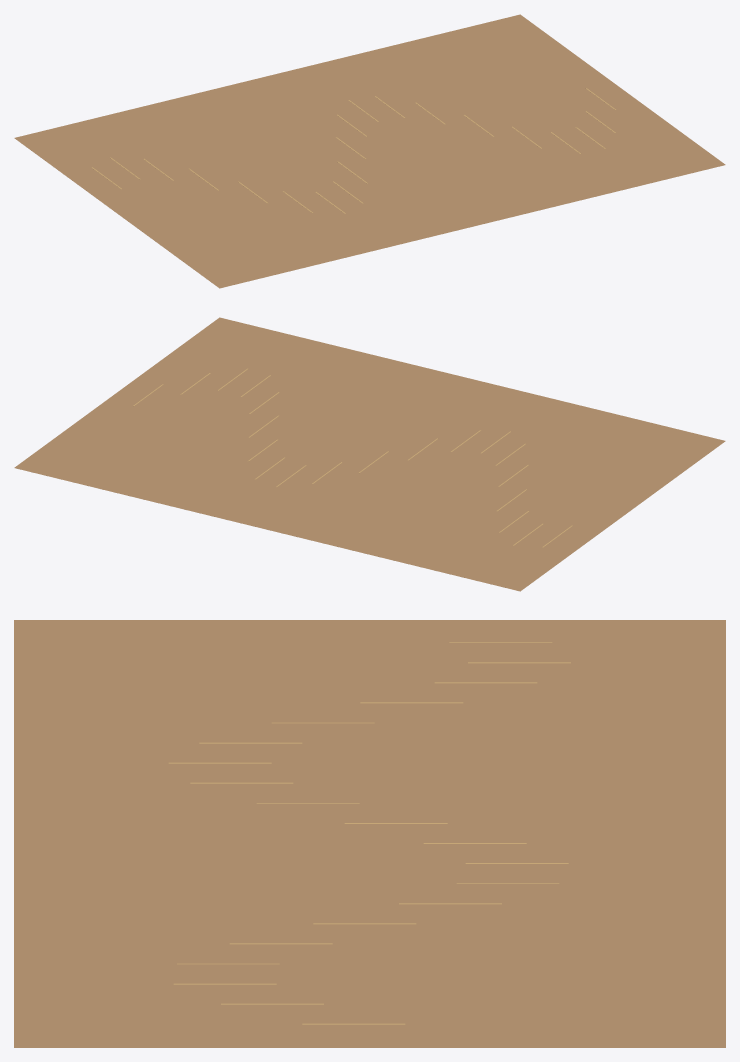
The model's file is 244_L118_L7_LayerReference.glb.
The picture shows the model from 3 angles, top to bottom: view 1: azimuth 30°, elevation 25°; view 2: azimuth 150°, elevation 25°; view 3: azimuth 270°, elevation 25°; orthographic projection. The views are drawn at different scales.
Parts seen in each view (by area): view 1: 0000__PSMAT__copper_dark; view 2: 0000__PSMAT__copper_dark; view 3: 0000__PSMAT__copper_dark.
Part boxes in pixels (bbox=[...]): 0000__PSMAT__copper_dark: bbox=[14, 14, 725, 288]; 0000__PSMAT__copper_dark: bbox=[14, 317, 725, 591]; 0000__PSMAT__copper_dark: bbox=[14, 620, 725, 1047].
Size of the model in its own units: 0.472 by 0.000534 by 0.332.
